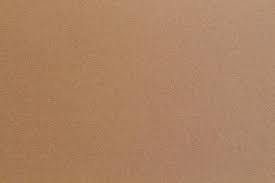Cardboard: (2, 1, 275, 183)
